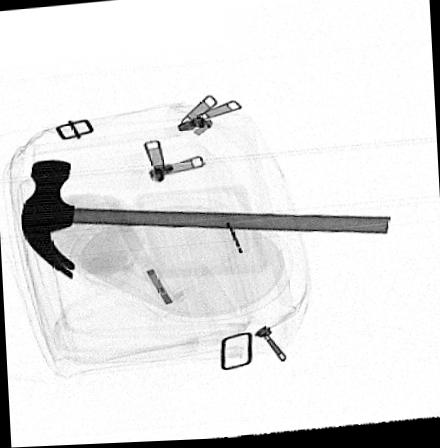Hammer: (21, 160, 392, 281)
